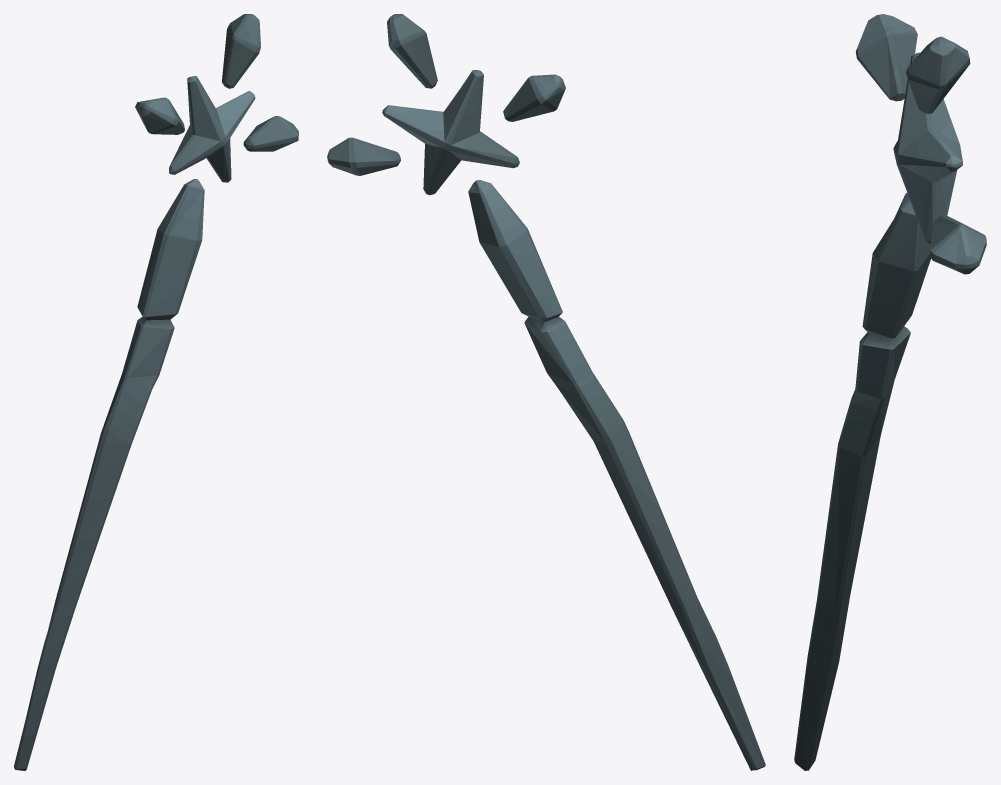
The model's file is CharSkyKid_Prop_ScepterWand.glb.
3 renders of one model, left to right at view 1: azimuth 30°, elevation 25°; view 2: azimuth 150°, elevation 25°; view 3: azimuth 270°, elevation 25°, orthographic. The views are drawn at different scales.
Visible parts, largest first — view 1: CharSkyKid_Prop_ScepterWand; view 2: CharSkyKid_Prop_ScepterWand; view 3: CharSkyKid_Prop_ScepterWand.
Part boxes in pixels (x1,y1,x2,y2): CharSkyKid_Prop_ScepterWand: (14, 14, 298, 770); CharSkyKid_Prop_ScepterWand: (327, 14, 765, 770); CharSkyKid_Prop_ScepterWand: (794, 14, 986, 770).
Size of the model in its own units: 5.11 by 9.44 by 1.79.
1 material, 1 textured.
